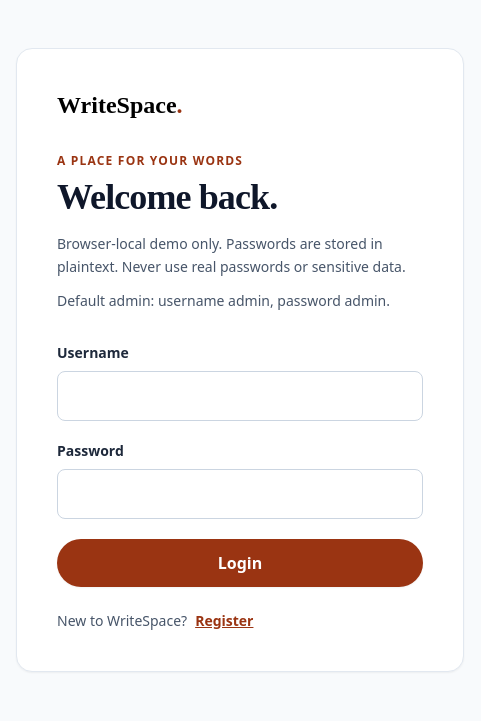
Test: shows exact invalid credentials error with field association
This screenshot has width=481, height=721.
Type "admin" into the field labelled "Username" at x=240, y=396, box [57,371,423,421]
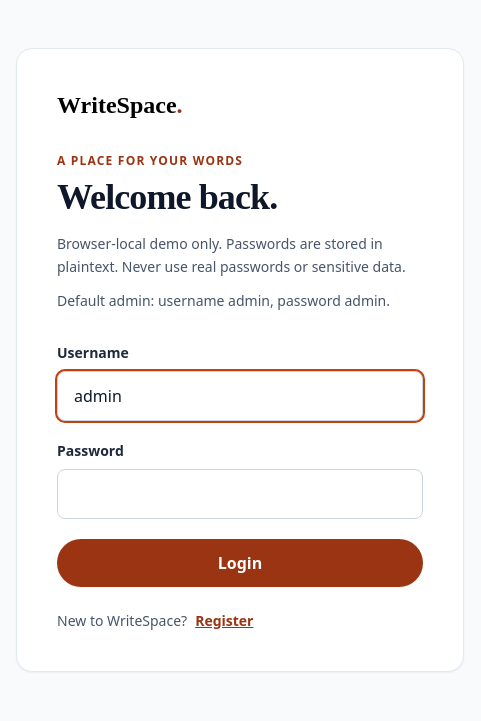
Type "wrong" into the password field labelled "Password" at x=240, y=494, box [57,469,423,519]
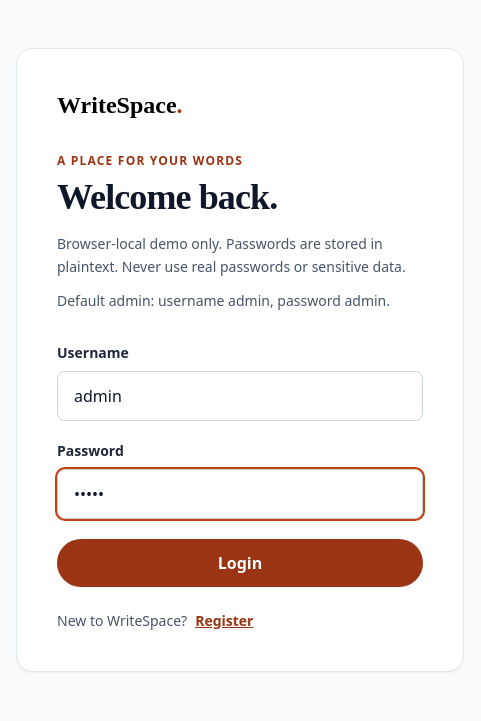
Click the button "Login" at x=240, y=563, box [57,539,423,587]
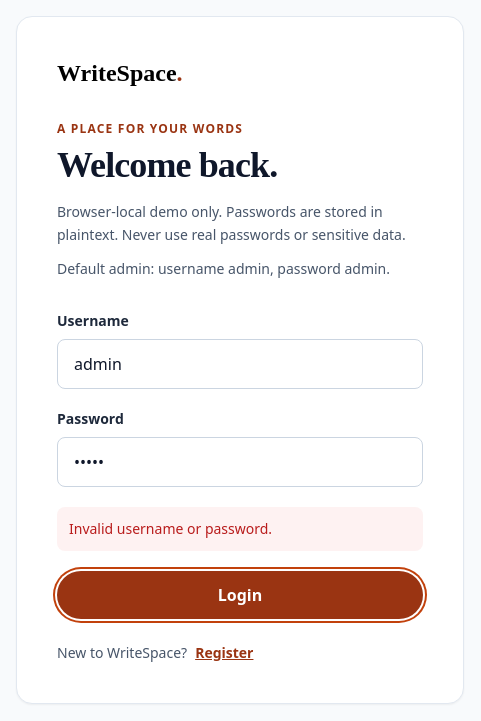
expect the message reads "Invalid username or password.": met, box [69,519,272,538]
